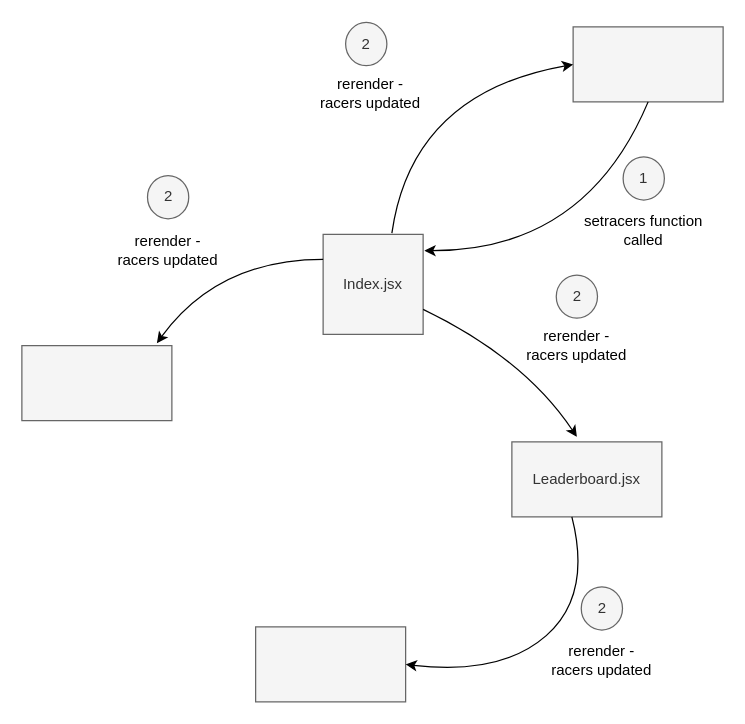
This 745x724 diagram has some shape labels left out. Here are the shapes that lost their labels. From the top down, the centre of each, then its label:
[647,64]: ConfigOverlay.jsx
[96,382]: Canvas.jsx
[330,664]: LeaderboardItem.jsx
